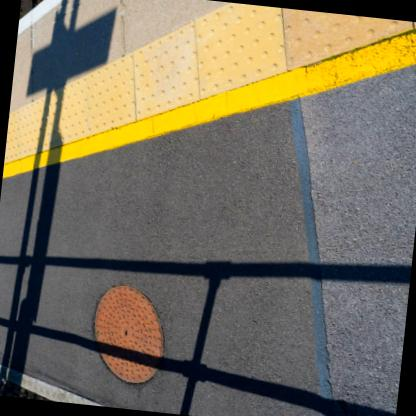manholes: (66, 260, 190, 396)
